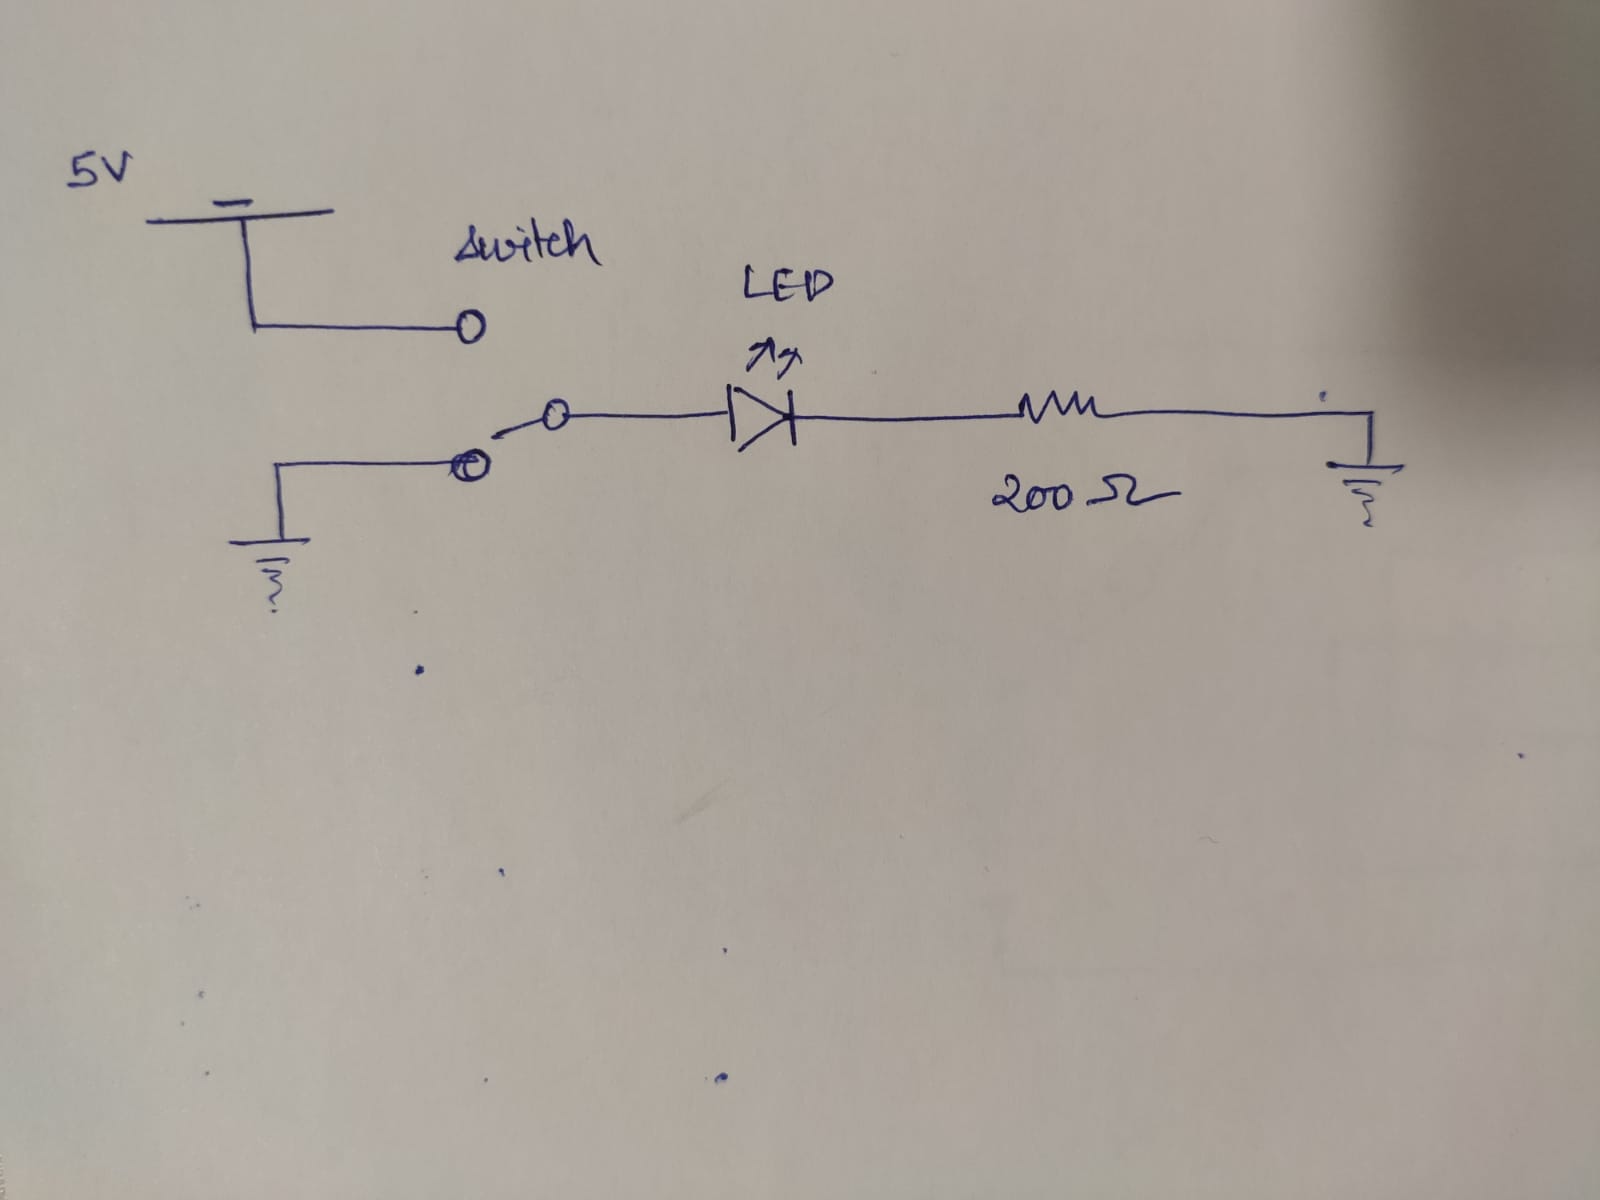diode.light_emitting: (724, 335, 806, 454)
gnd: (228, 533, 311, 616), (1324, 453, 1402, 529)
junction: (239, 314, 270, 340), (263, 458, 292, 482), (1357, 402, 1381, 427)
resistor: (1007, 386, 1116, 422)
switch: (445, 308, 576, 485)
text: (991, 471, 1186, 516), (454, 221, 597, 262), (740, 263, 830, 301), (63, 145, 139, 190)
voltage.dc: (144, 189, 329, 229)
